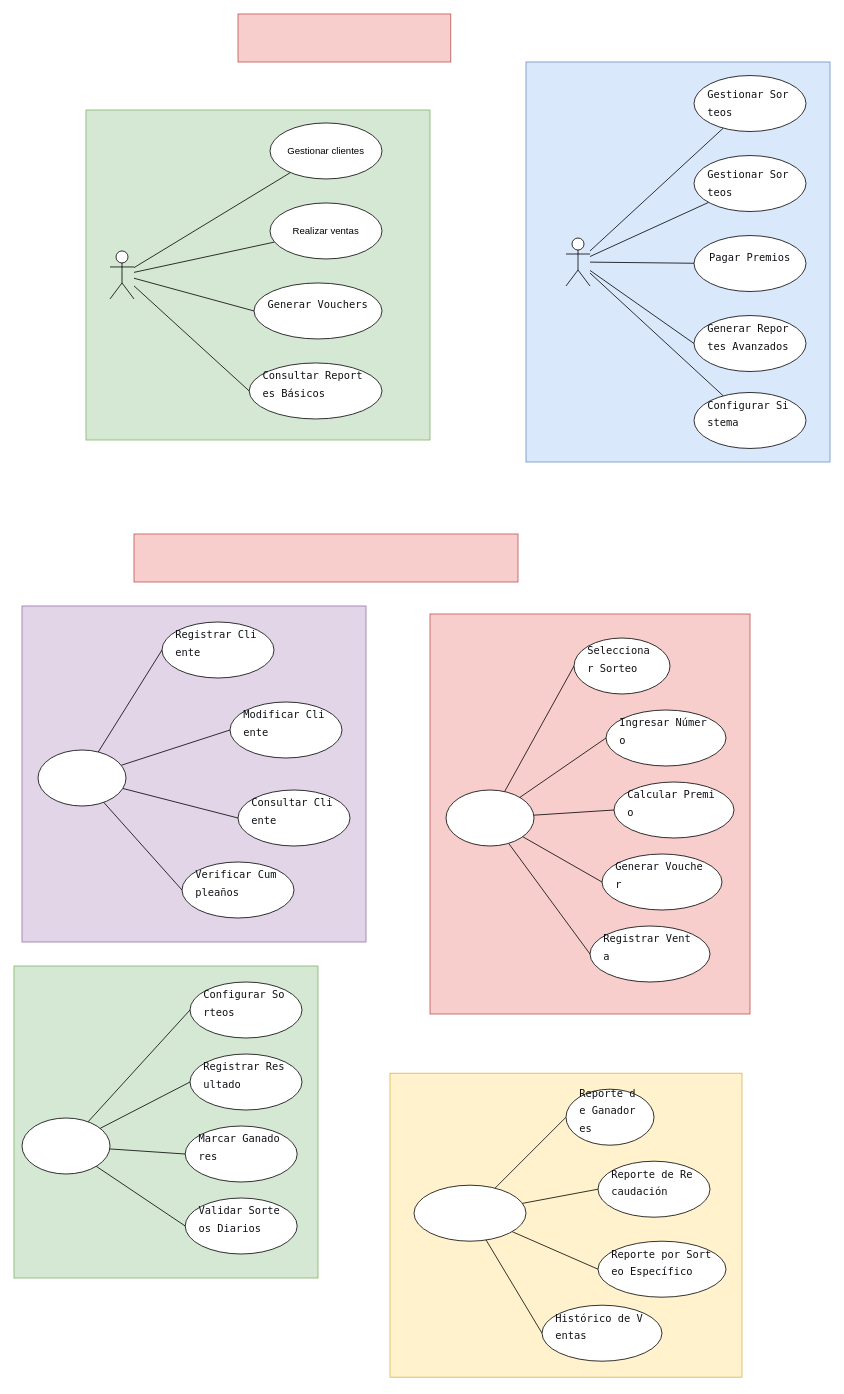
Image size: 844x1394. Some labels were removed from this diagram. The centre of each missing label's shape, as x and y in pixels:
ACTORES: the point at 344,37
Administrador: the point at 577,261
CASOS DE USOS: the point at 325,557
Gestión de Clientes: the point at 81,777
Gestión de Sorteos: the point at 65,1145
Proceso de Venta: the point at 489,817
Reportes: the point at 469,1212
Vendedor: the point at 121,274
